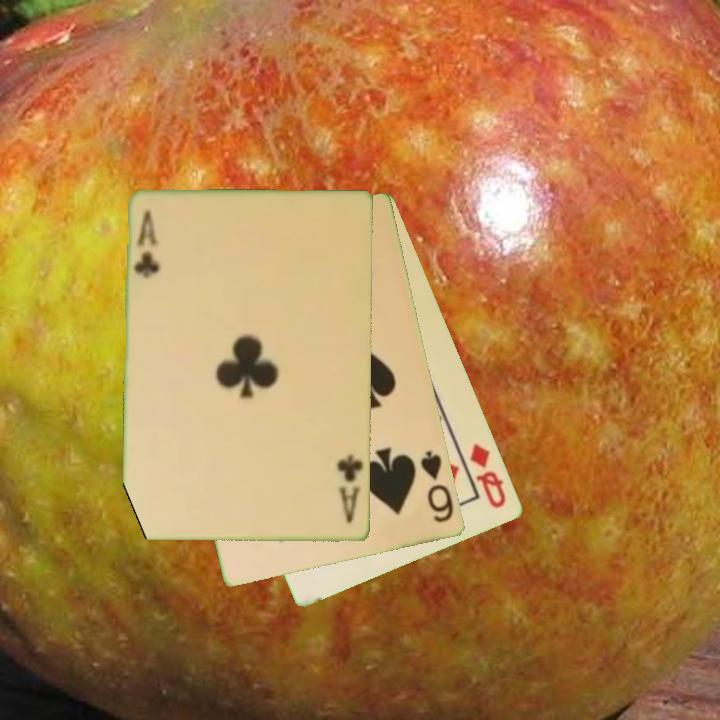6s: (417, 447, 457, 526)
Ac: (334, 452, 366, 527), (131, 207, 163, 282)
Qd: (466, 439, 509, 512)
